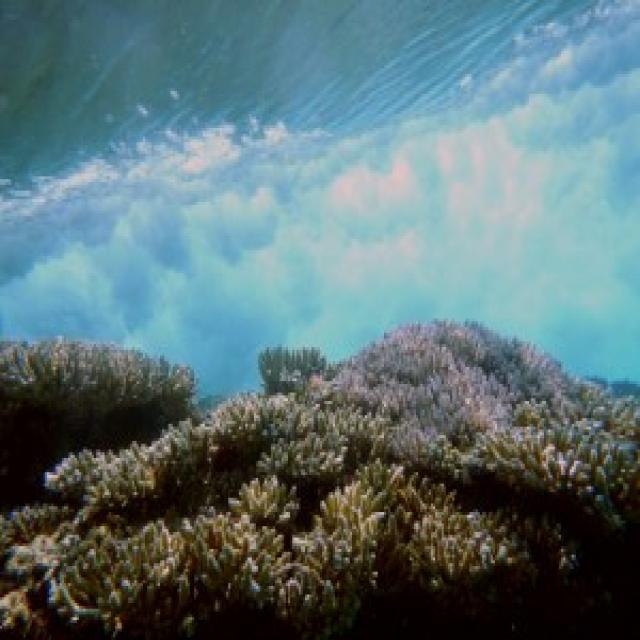Healthy: (334, 322, 639, 519), (46, 510, 278, 632), (317, 465, 526, 590), (46, 394, 266, 499), (3, 339, 193, 425), (246, 428, 351, 484), (204, 394, 323, 436), (229, 476, 295, 530), (261, 348, 325, 394)
